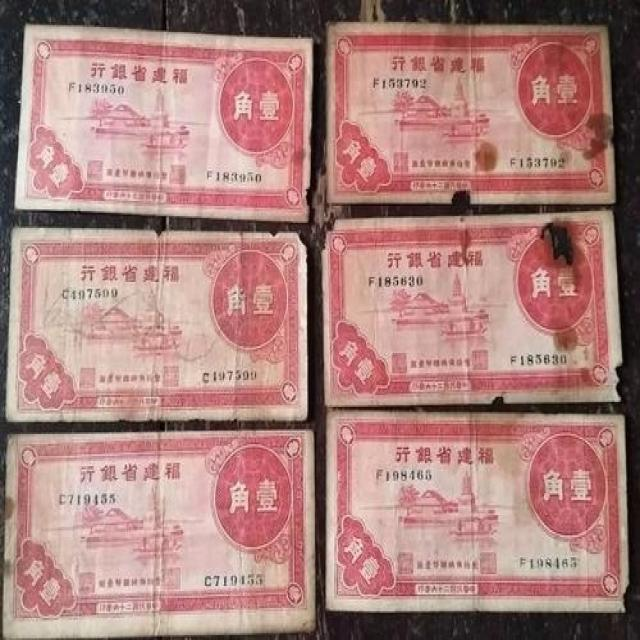box: (1, 429, 316, 638), (326, 409, 628, 610), (15, 24, 314, 223), (321, 211, 623, 407), (6, 228, 308, 422), (326, 22, 616, 204)
